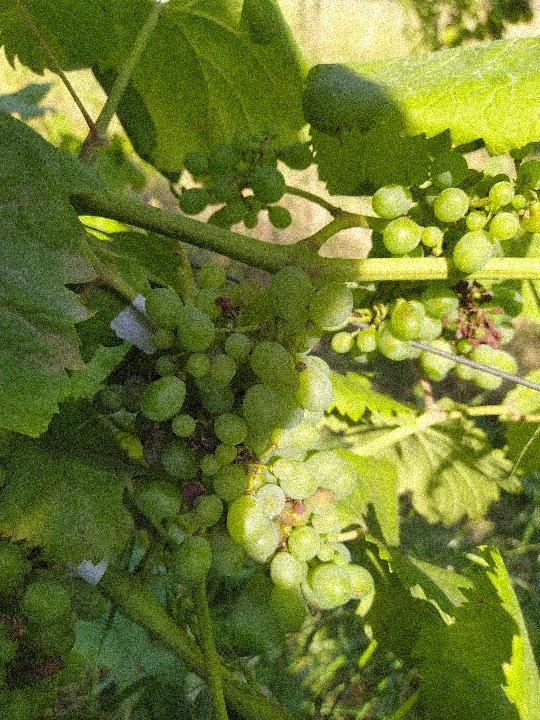grape: (88, 257, 376, 637), (328, 144, 539, 392), (174, 121, 316, 232)
